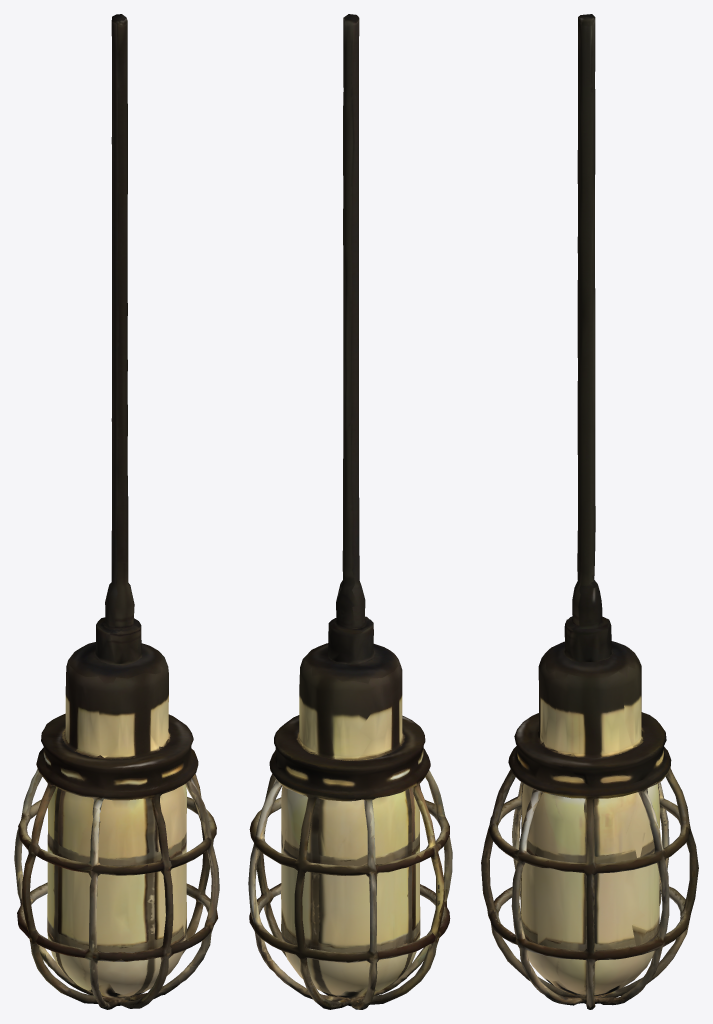
File: Prop_Foco_Techo.fbx
The picture shows the model from 3 angles, left to right: view 1: azimuth 30°, elevation 25°; view 2: azimuth 150°, elevation 25°; view 3: azimuth 270°, elevation 25°; orthographic projection.
Visible parts, largest first — view 1: Mesh_0; view 2: Mesh_0; view 3: Mesh_0.
Boxes of the visible parts, x1,y1,x2,y2 form: Mesh_0: [14, 14, 219, 1009]; Mesh_0: [248, 14, 452, 1009]; Mesh_0: [481, 14, 698, 1009].
Bounding box in the file's own units: 20 × 100 × 20.
1 material, 1 textured.
